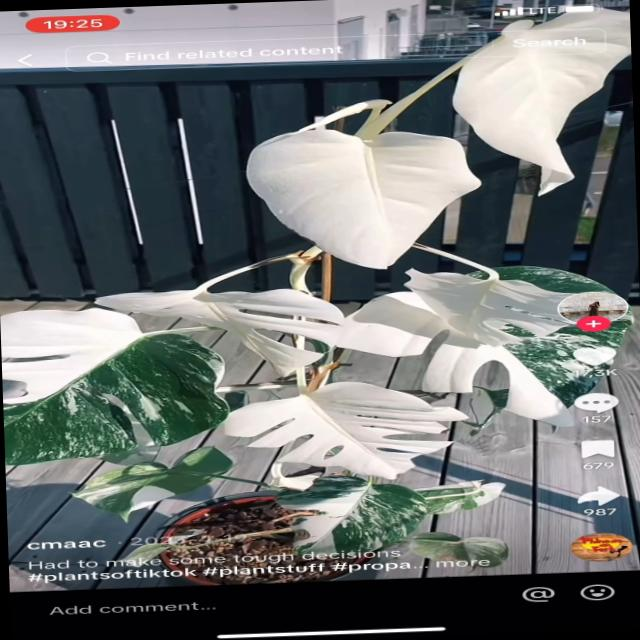lisc_variegata: (328, 263, 629, 427), (0, 305, 229, 466), (451, 5, 631, 197), (249, 123, 481, 270), (221, 384, 469, 494), (93, 289, 346, 378), (269, 475, 427, 557), (68, 446, 234, 523), (405, 532, 508, 568), (416, 478, 509, 514)
roslina_variegata: (0, 5, 635, 556)
